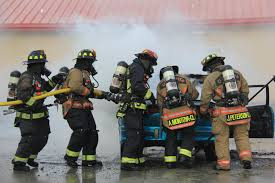emergent: (202, 54, 259, 166), (62, 47, 103, 164), (158, 66, 199, 169), (17, 48, 49, 167), (121, 48, 148, 171)
